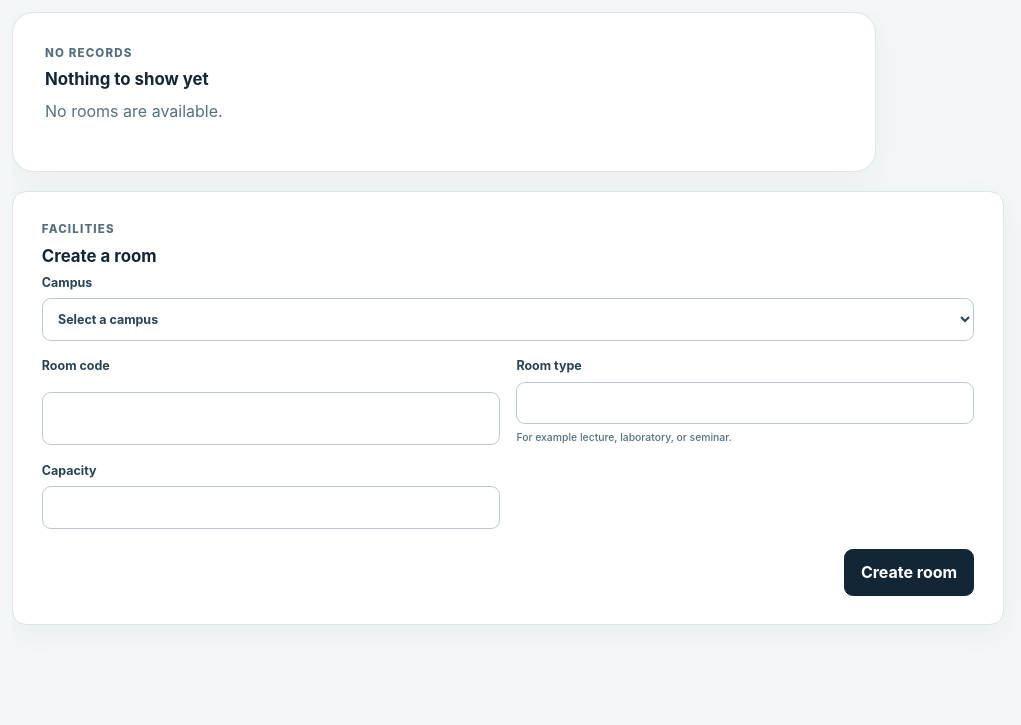
it: RoomAdministration › creates a room with an integer capacity on a selected campus
This screenshot has width=1021, height=725.
Select "North Valley" in the dropdown labelled "Campus" at (508, 319), box [42,298,974,341]
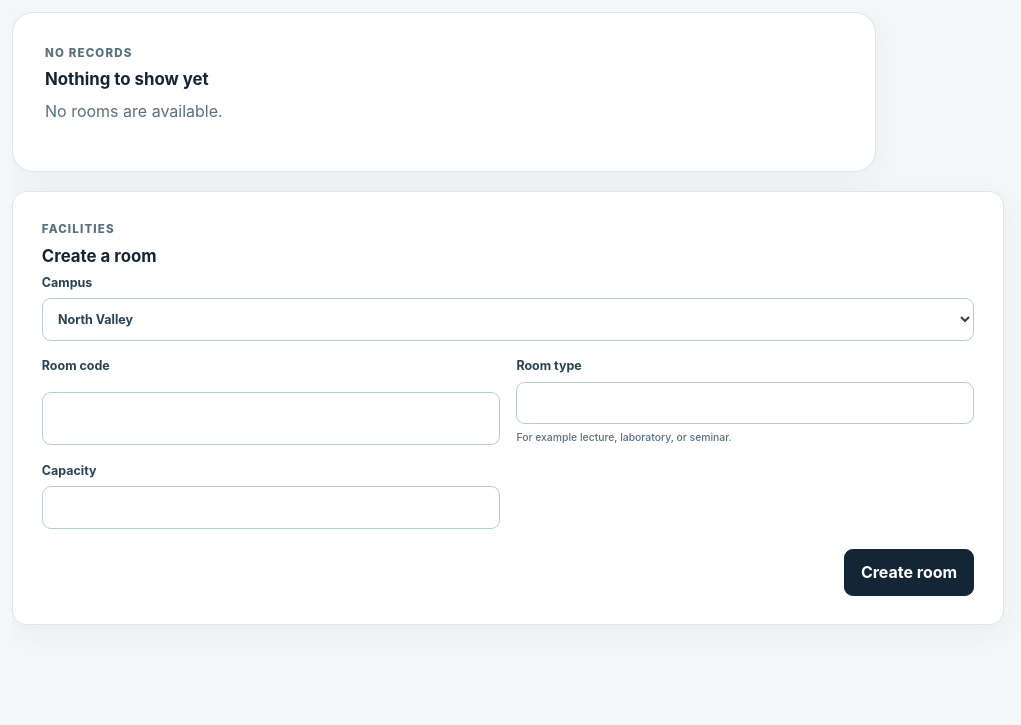
Type "A-101" into the field labelled "Room code" at (271, 419), box [42,392,500,445]
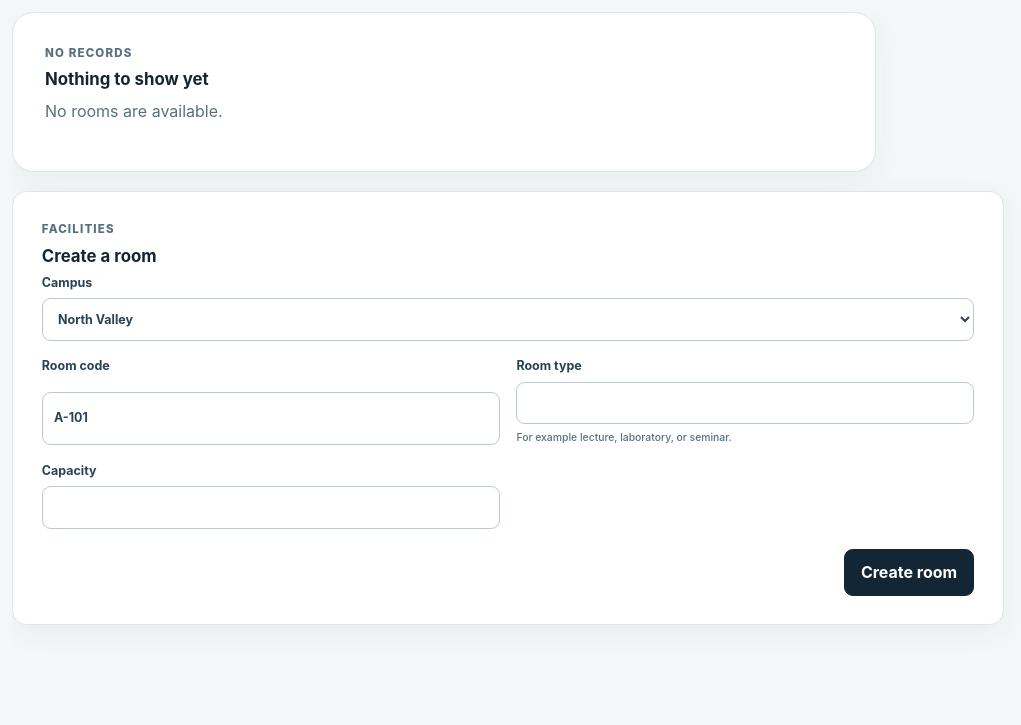
Type "lecture" into the field labelled "Room type For example lecture, laboratory, or seminar." at (745, 403), box [516,382,974,424]
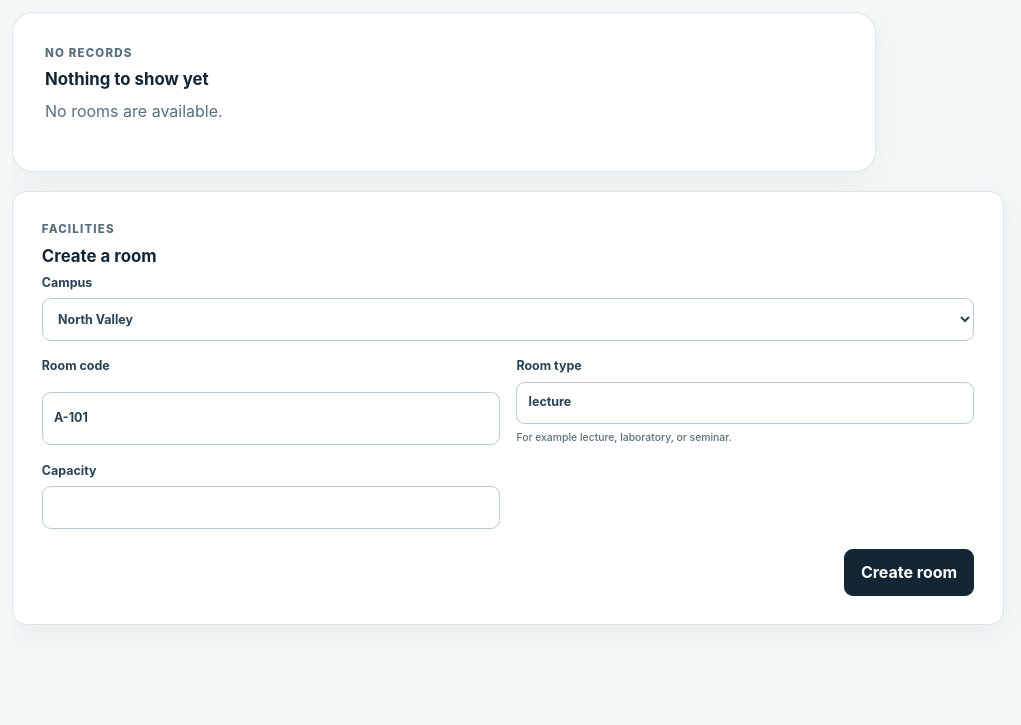
Type "40" into the number field labelled "Capacity" at (271, 508), box [42,486,500,529]
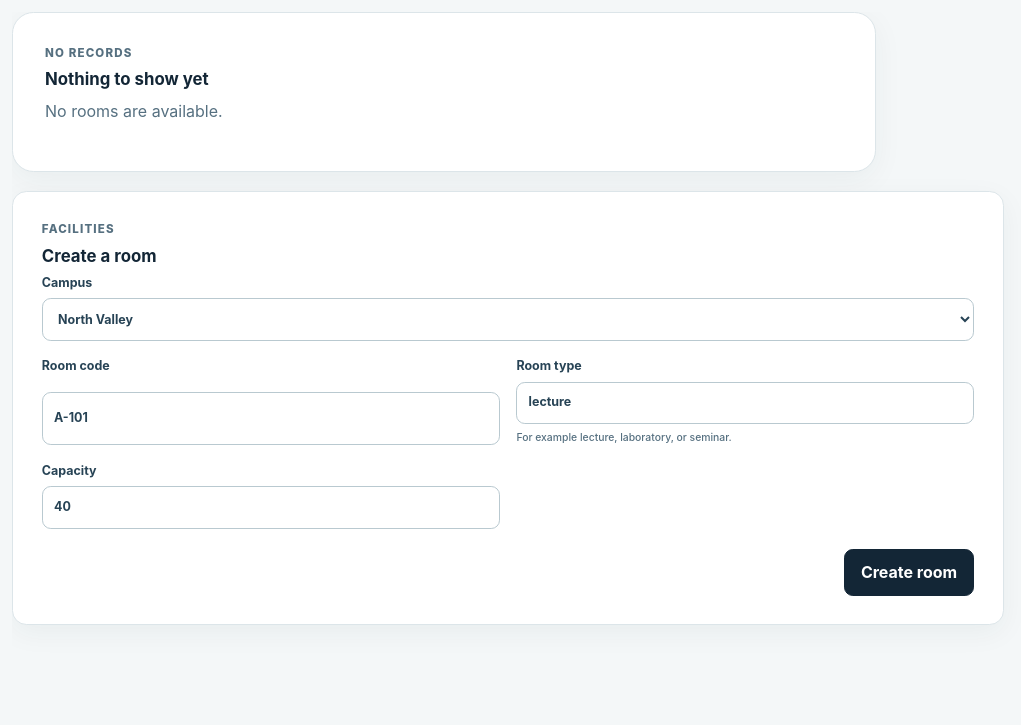
Click the button "Create room" at (909, 572), box [844,549,974,596]
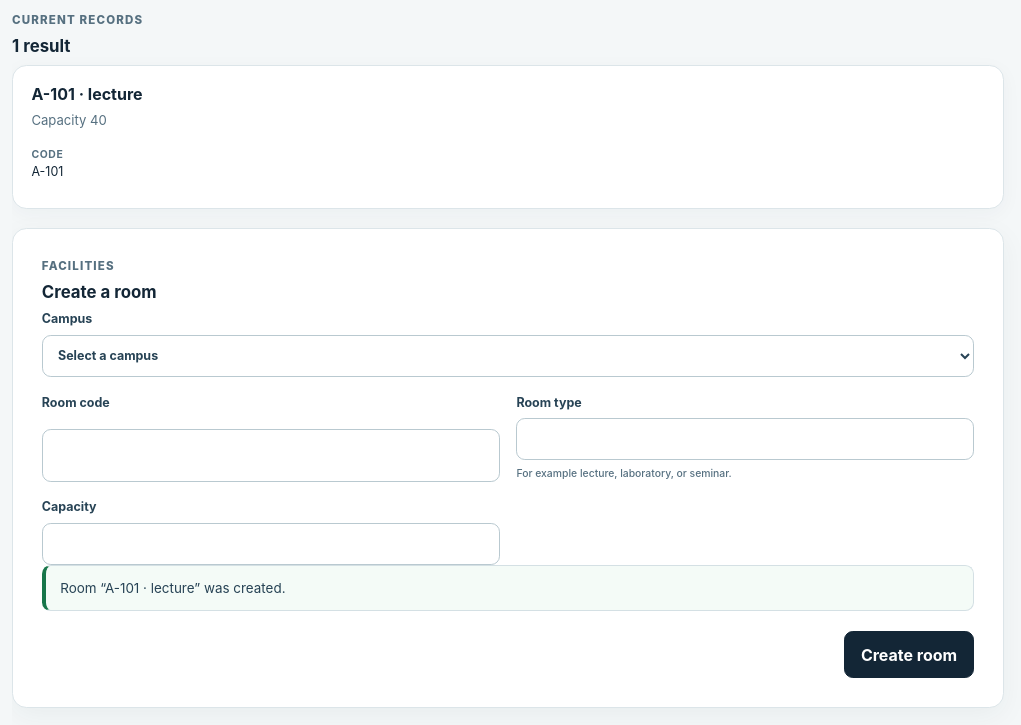
Result: the text "Room “A-101 · lecture” was created." is shown at [42,565,974,611]
